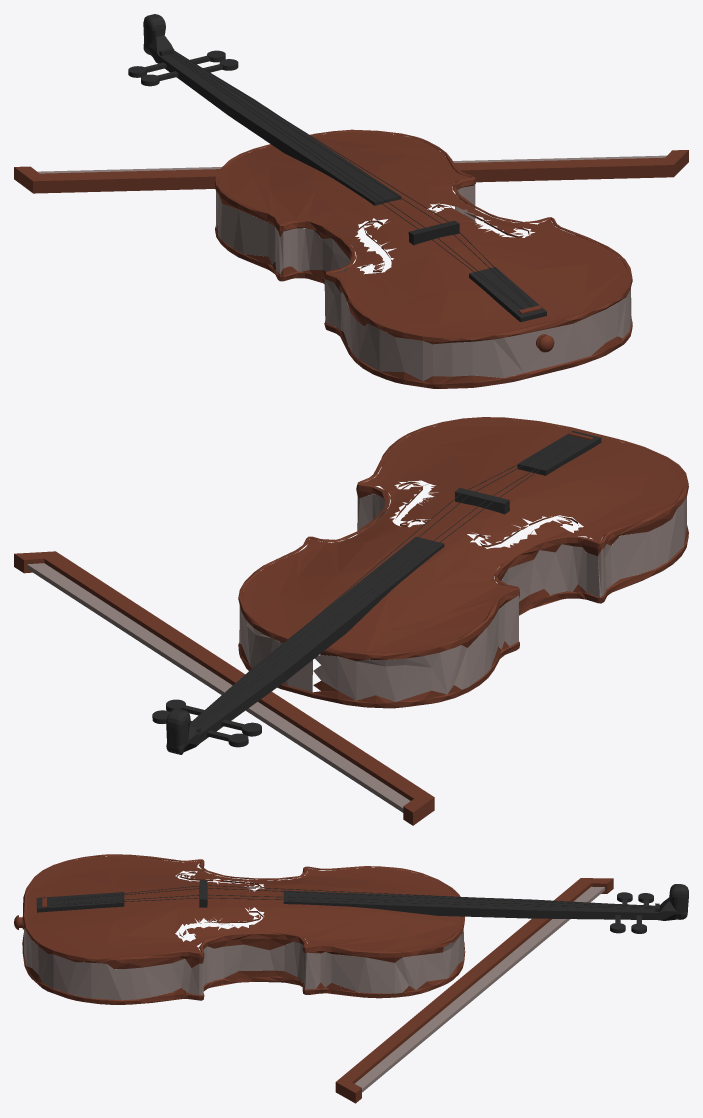
Rendered from 4yO-XrJiBlc.glb.
The picture shows the model from 3 angles, top to bottom: view 1: azimuth 30°, elevation 25°; view 2: azimuth 150°, elevation 25°; view 3: azimuth 270°, elevation 25°; orthographic projection. The views are drawn at different scales.
Parts seen in each view (by area): view 1: Box016, Box017, Box013; view 2: Box016, Box017, Box013; view 3: Box016, Box017, Box013.
Boxes of the visible parts, x1=… form: Box016: x1=14, y1=129, x2=688, y2=388; Box017: x1=37, y1=155, x2=666, y2=380; Box013: x1=128, y1=14, x2=546, y2=322; Box016: x1=14, y1=417, x2=688, y2=825; Box017: x1=27, y1=494, x2=686, y2=812; Box013: x1=152, y1=431, x2=601, y2=754; Box016: x1=14, y1=854, x2=613, y2=1103; Box017: x1=24, y1=886, x2=604, y2=1092; Box013: x1=36, y1=880, x2=688, y2=933.
Bounding box in the file's own units: 6 × 1 × 7.92.
